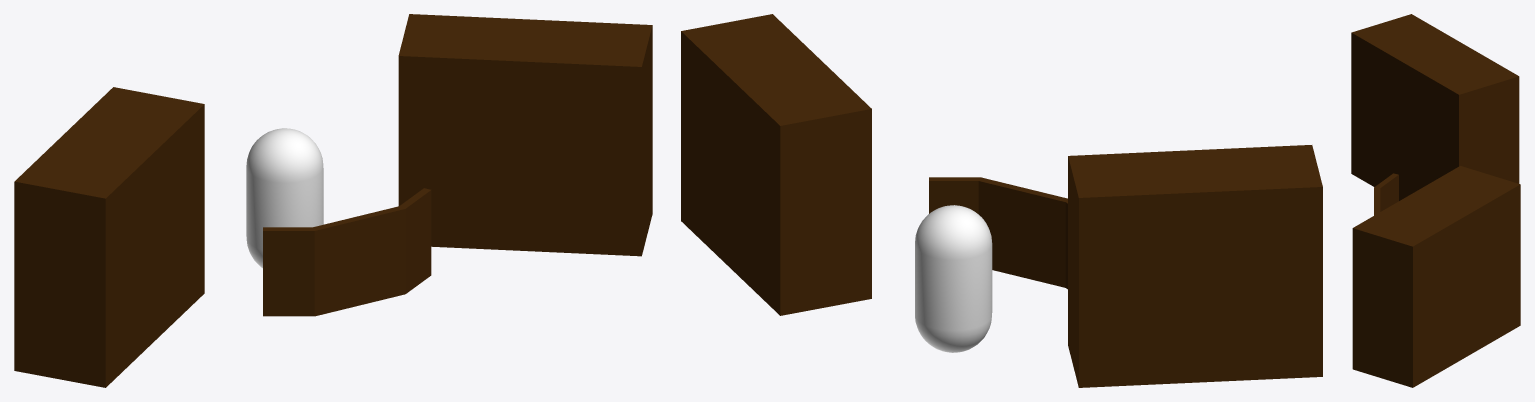
File: Planeterrium.fbx
3 views of the same model, side by side, from view 1: azimuth 30°, elevation 25°; view 2: azimuth 150°, elevation 25°; view 3: azimuth 270°, elevation 25° (orthographic). The views are drawn at different scales.
Visible parts, largest first — view 1: Cube__4_, Cube__5_, Cube, Capsule, Cube__1_, Cube__2_; view 2: Cube__5_, Cube__4_, Capsule, Cube, Cube__2_; view 3: Cube__4_, Cube__5_, Cube__1_, Cube.
Part boxes in pixels (left/top/right/bottom): Cube__4_: left=398, top=14, right=652, bottom=256; Cube__5_: left=14, top=87, right=204, bottom=387; Cube: left=313, top=206, right=405, bottom=316; Capsule: left=246, top=128, right=323, bottom=268; Cube__1_: left=263, top=227, right=314, bottom=316; Cube__2_: left=399, top=188, right=431, bottom=293; Cube__5_: left=1068, top=145, right=1322, bottom=387; Cube__4_: left=681, top=14, right=871, bottom=315; Capsule: left=915, top=205, right=992, bottom=352; Cube: left=978, top=177, right=1067, bottom=287; Cube__2_: left=929, top=177, right=980, bottom=213; Cube__4_: left=1352, top=166, right=1520, bottom=387; Cube__5_: left=1351, top=14, right=1519, bottom=200; Cube__1_: left=1374, top=173, right=1398, bottom=211; Cube: left=1374, top=187, right=1380, bottom=215.
Size of the model in its own units: 955 by 291 by 293.
